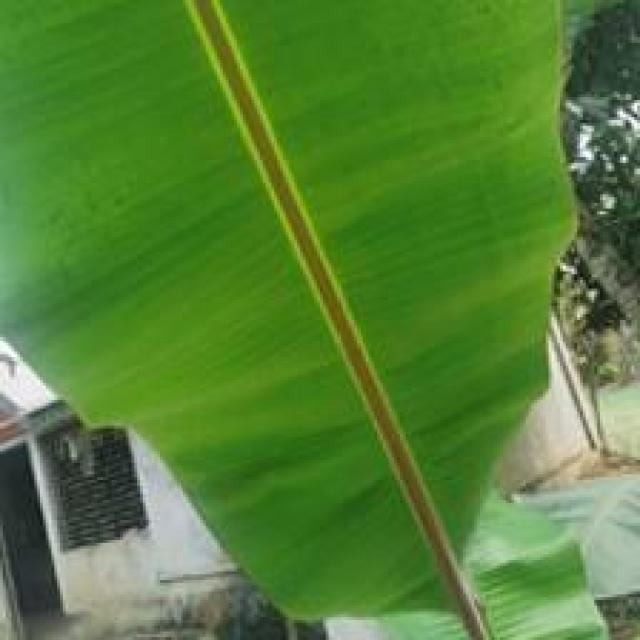Black_leaf_spot: (0, 0, 580, 634)
